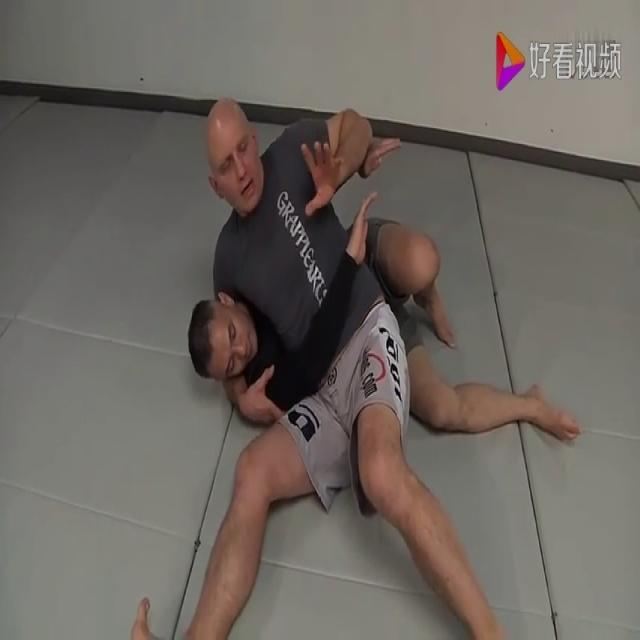fight: (137, 75, 627, 637)
